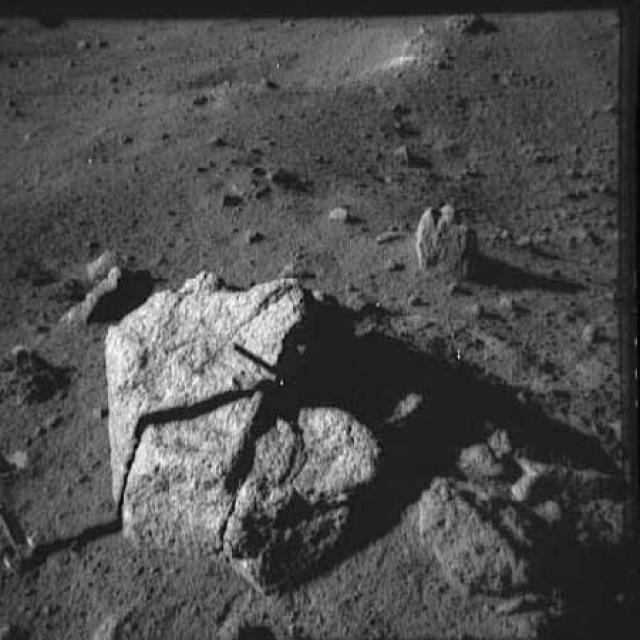crater: (178, 17, 425, 107)
rock: (90, 268, 388, 598), (414, 471, 564, 609), (398, 204, 482, 282), (62, 258, 146, 325), (8, 344, 54, 407), (85, 613, 138, 639), (85, 247, 132, 276), (209, 612, 256, 639), (436, 13, 495, 34), (324, 202, 356, 230), (496, 291, 523, 321), (506, 231, 538, 254), (440, 281, 476, 301), (78, 34, 113, 54), (386, 145, 417, 167), (464, 300, 492, 322), (575, 322, 605, 342), (242, 223, 264, 248), (204, 132, 234, 150), (406, 291, 428, 314), (217, 190, 240, 209), (379, 256, 403, 274), (263, 170, 285, 187)
